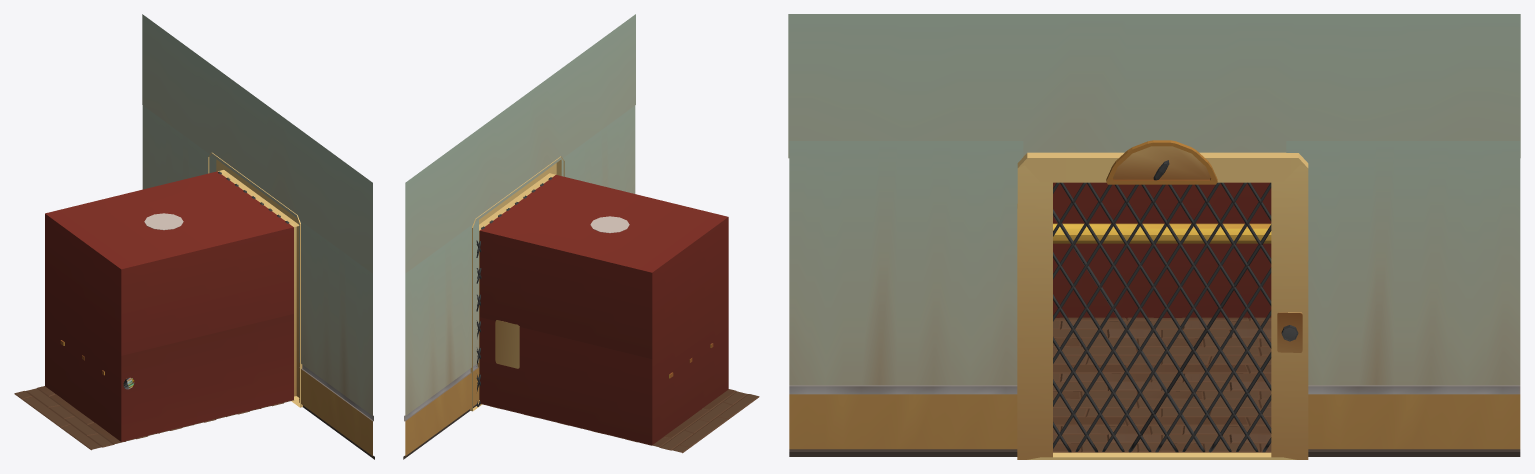
The model's file is elevator.fbx.
The picture shows the model from 3 angles, left to right: view 1: azimuth 30°, elevation 25°; view 2: azimuth 150°, elevation 25°; view 3: azimuth 270°, elevation 25°; orthographic projection. The views are drawn at different scales.
Parts seen in each view (by area): view 1: Cube, Wall_Yellow, Wall_Yellow.003, Wall_Yellow.002, FloorWood.004, FloorWood.005, CircleLight; view 2: Cube, Wall_Yellow, Wall_Yellow.002, Wall_Yellow.003, FloorWood.005, FloorWood.004, Cube.002, CircleLight, NurbsPath; view 3: Wall_Yellow, Wall_Yellow.003, Wall_Yellow.002, Cube, NurbsPath, FloorWood.001, FloorWood, FloorWood.003, FloorWood.002, Cube.001, Cylinder, FloorWood.005 (+2 smaller).
Part boxes in pixels (bbox=[...]): Cube: bbox=[45, 152, 302, 441]; Wall_Yellow: bbox=[142, 14, 372, 273]; Wall_Yellow.003: bbox=[299, 220, 374, 459]; Wall_Yellow.002: bbox=[142, 105, 216, 189]; FloorWood.004: bbox=[53, 414, 157, 450]; FloorWood.005: bbox=[14, 386, 82, 421]; CircleLight: bbox=[144, 213, 183, 230]; Cube: bbox=[470, 156, 728, 445]; Wall_Yellow: bbox=[405, 14, 635, 273]; Wall_Yellow.002: bbox=[403, 220, 478, 459]; Wall_Yellow.003: bbox=[561, 105, 635, 193]; FloorWood.005: bbox=[615, 417, 720, 453]; FloorWood.004: bbox=[691, 389, 759, 424]; Cube.002: bbox=[495, 320, 519, 368]; CircleLight: bbox=[590, 216, 629, 233]; NurbsPath: bbox=[476, 177, 552, 406]; Wall_Yellow: bbox=[788, 14, 1520, 158]; Wall_Yellow.003: bbox=[789, 141, 1023, 456]; Wall_Yellow.002: bbox=[1286, 141, 1520, 456]; Cube: bbox=[1017, 152, 1308, 459]; NurbsPath: bbox=[1053, 182, 1271, 452]; FloorWood.001: bbox=[1161, 399, 1271, 452]; FloorWood: bbox=[1053, 399, 1161, 452]; FloorWood.003: bbox=[1161, 347, 1271, 399]; FloorWood.002: bbox=[1053, 347, 1161, 399]; Cube.001: bbox=[1106, 140, 1217, 184]; Cylinder: bbox=[1053, 223, 1271, 243]; FloorWood.005: bbox=[1161, 317, 1271, 347].
Bounding box in the file's own units: 602 × 749 × 1126.
Materials: 2 (1 with a texture image).
